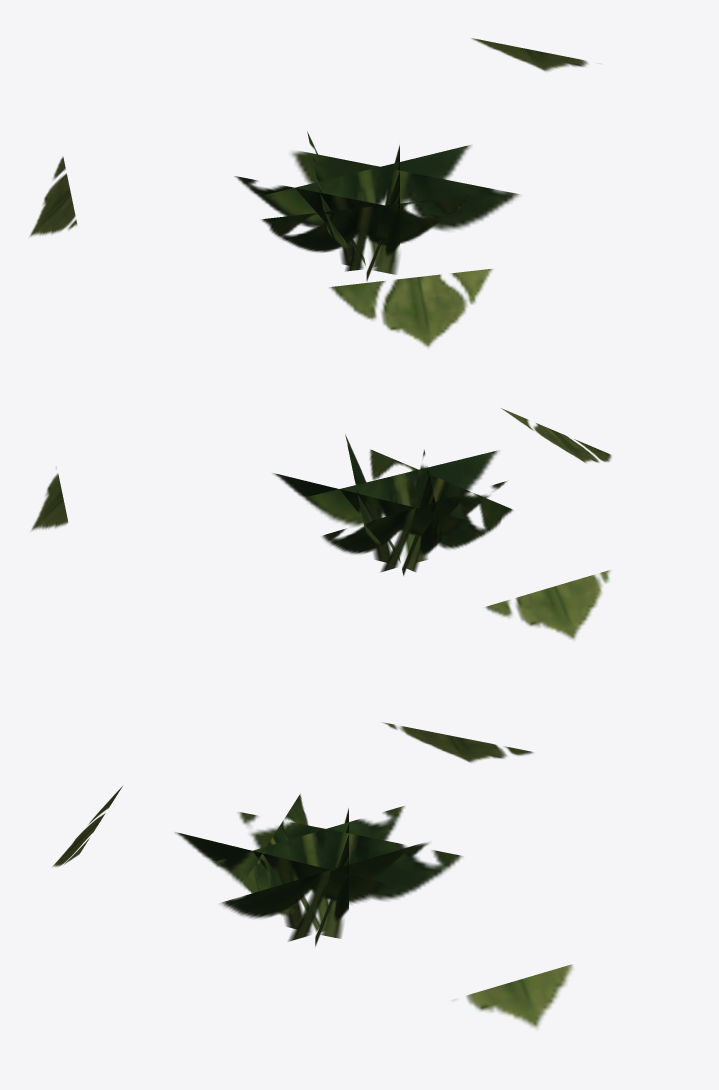
The model's file is lp_bush_b_stump.glb.
3 renders of one model, top to bottom at view 1: azimuth 30°, elevation 25°; view 2: azimuth 150°, elevation 25°; view 3: azimuth 270°, elevation 25°, orthographic. The views are drawn at different scales.
Visible parts, largest first — view 1: lp_bush_b_low; view 2: lp_bush_b_low; view 3: lp_bush_b_low.
Part boxes in pixels (x1,y1,x2,y2): lp_bush_b_low: (29, 38, 587, 347); lp_bush_b_low: (31, 408, 611, 639); lp_bush_b_low: (52, 722, 572, 1028).
Bounding box in the file's own units: 0.809 × 0.0912 × 0.6772.
1 material, 1 textured.
